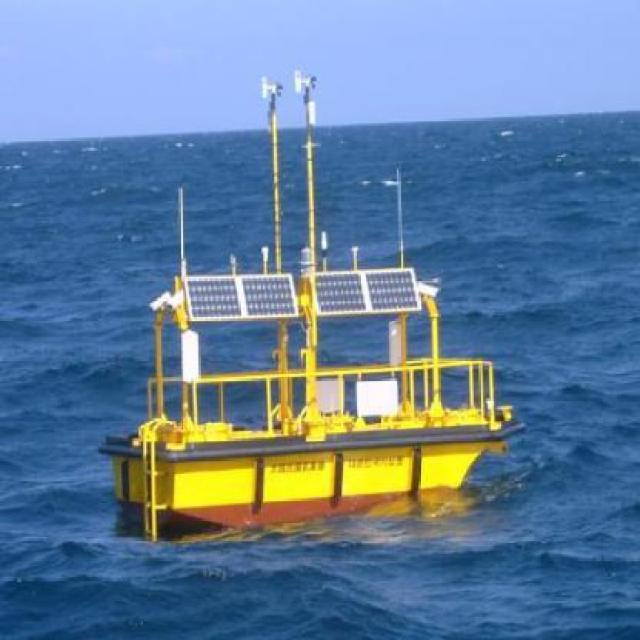buoy: (97, 54, 517, 554)
